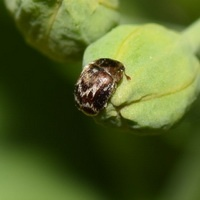insect: (74, 58, 130, 115)
